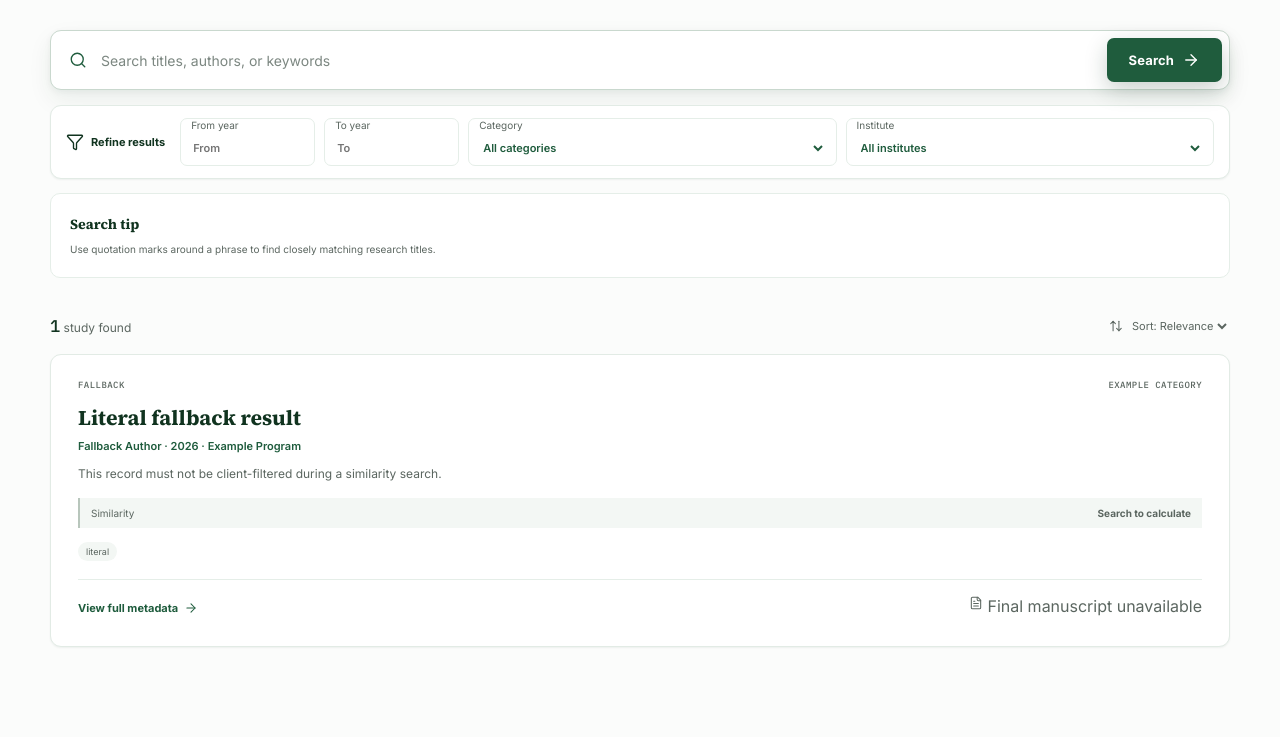
Test: CatalogPage public similarity search › shows final manuscript unavailable in metadata for authenticated users without a final manuscript
(page scrolled)
Click the button "View full metadata". click: point(138, 608)
box: [78, 594, 198, 622]
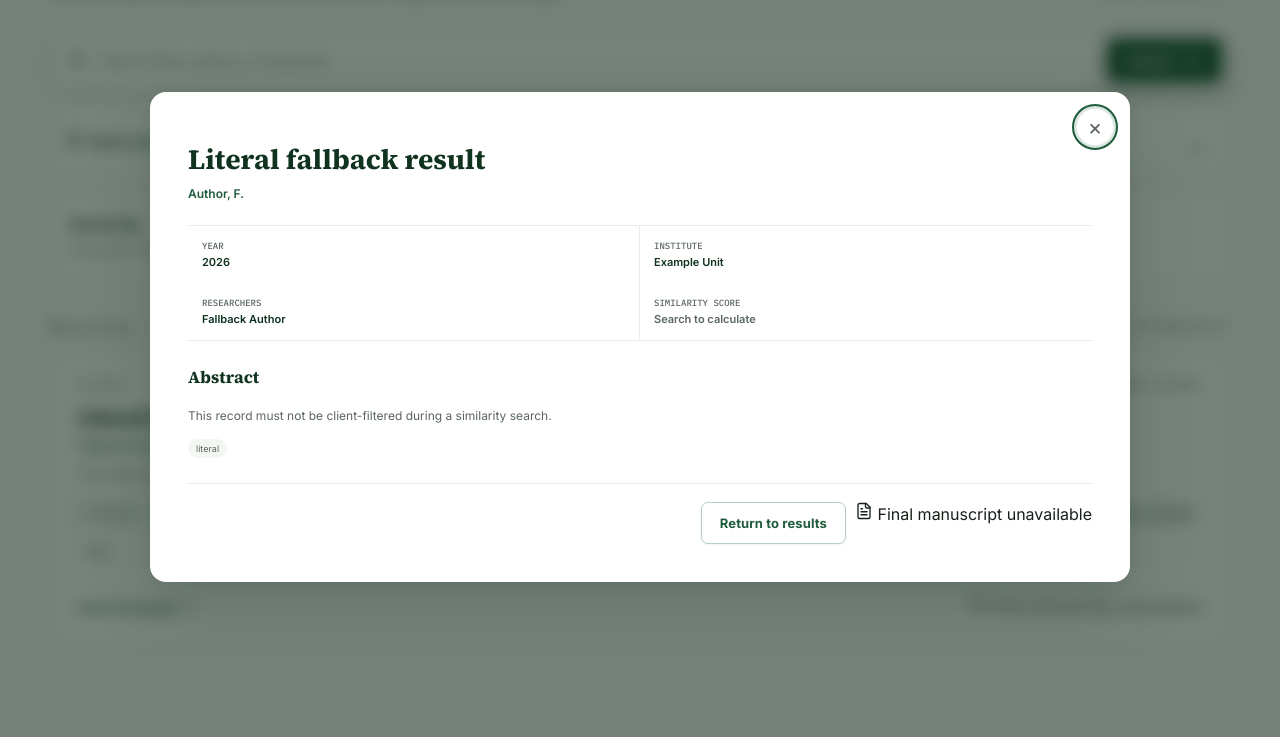
Expected: the text "Author, F." is shown, [188, 186, 244, 201]
Expected: the text "Fallback Author" is shown, [202, 312, 286, 326]
Expected: the text "Final manuscript unavailable" is shown, [855, 502, 1092, 524]
